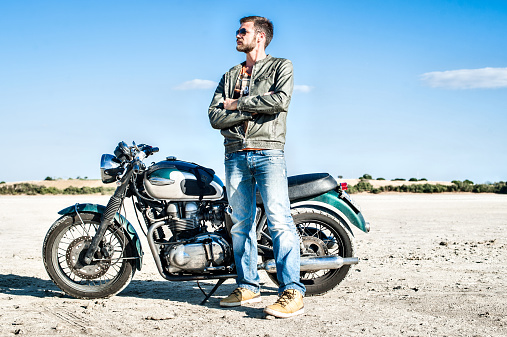em pe: (206, 12, 304, 309)
